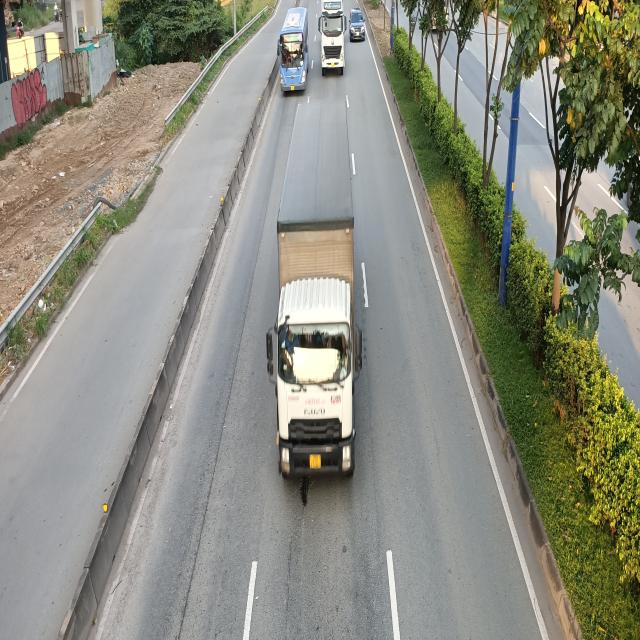car: (349, 8, 366, 42)
coach: (278, 6, 311, 96)
container: (320, 0, 348, 76)
truck: (264, 101, 366, 481)
